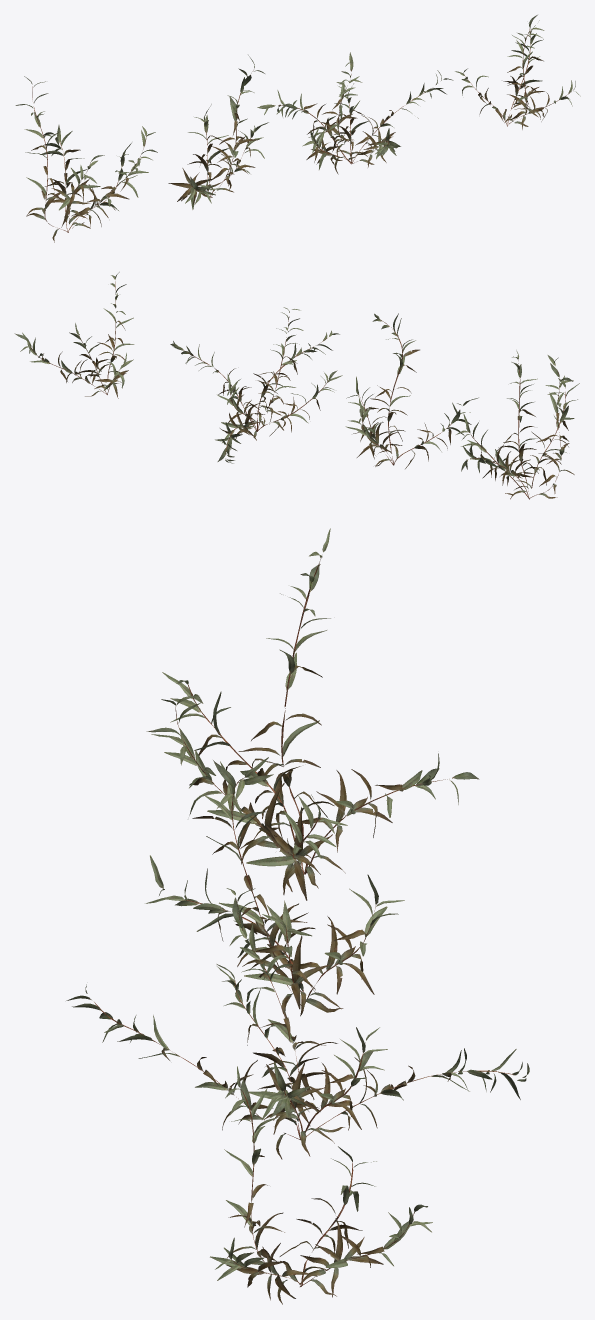
The model's file is shrub_02.glb.
3 views of the same model, one above another, from view 1: azimuth 30°, elevation 25°; view 2: azimuth 150°, elevation 25°; view 3: azimuth 270°, elevation 25° (orthographic). The views are drawn at different scales.
Parts seen in each view (by area): view 1: shrub_02_a; view 2: shrub_02_a; view 3: shrub_02_a.
Boxes of the visible parts, x1=… form: shrub_02_a: x1=15, y1=15, x2=580, y2=242; shrub_02_a: x1=14, y1=272, x2=579, y2=499; shrub_02_a: x1=66, y1=528, x2=529, y2=1304.
Size of the model in its own units: 6.05 by 1.7 by 2.29.
Materials: 1 (1 with a texture image).
